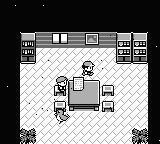leer: (73, 77, 85, 91), (85, 33, 99, 44)
main: (82, 61, 95, 76)
no-caminable: (5, 0, 159, 143), (68, 80, 100, 111), (116, 33, 147, 63), (36, 32, 85, 48), (21, 33, 36, 63), (98, 32, 116, 48), (132, 128, 148, 143), (20, 128, 36, 143)
npc: (54, 76, 68, 92), (54, 109, 70, 121)
